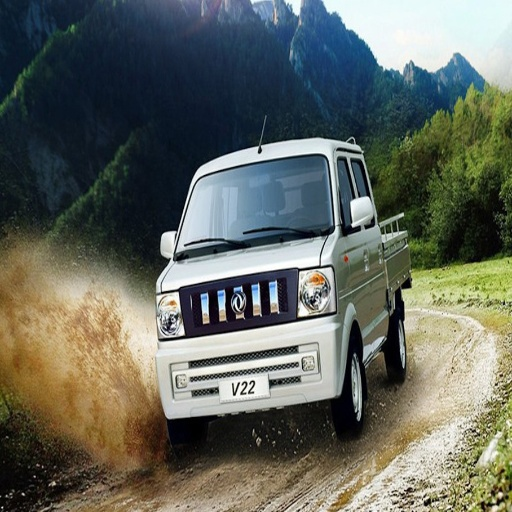front_bumper: (158, 269, 344, 415)
front_glass: (175, 156, 334, 259)
front_left_door: (343, 205, 375, 282)
